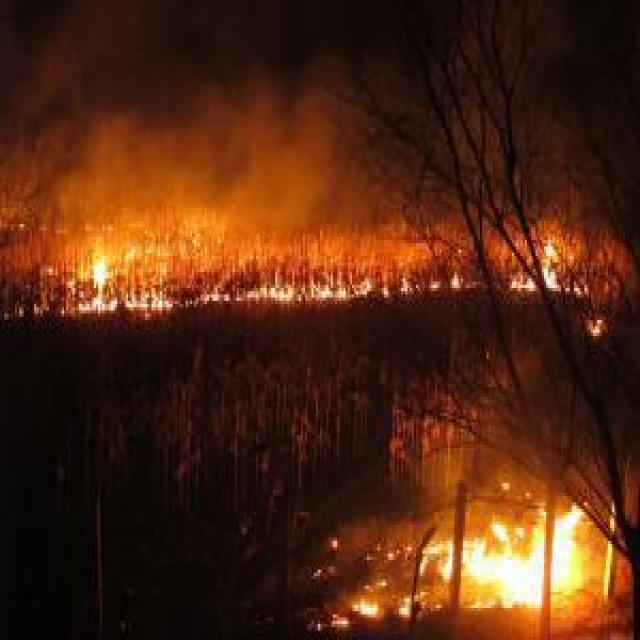fire: (18, 211, 608, 305), (306, 482, 612, 634)
